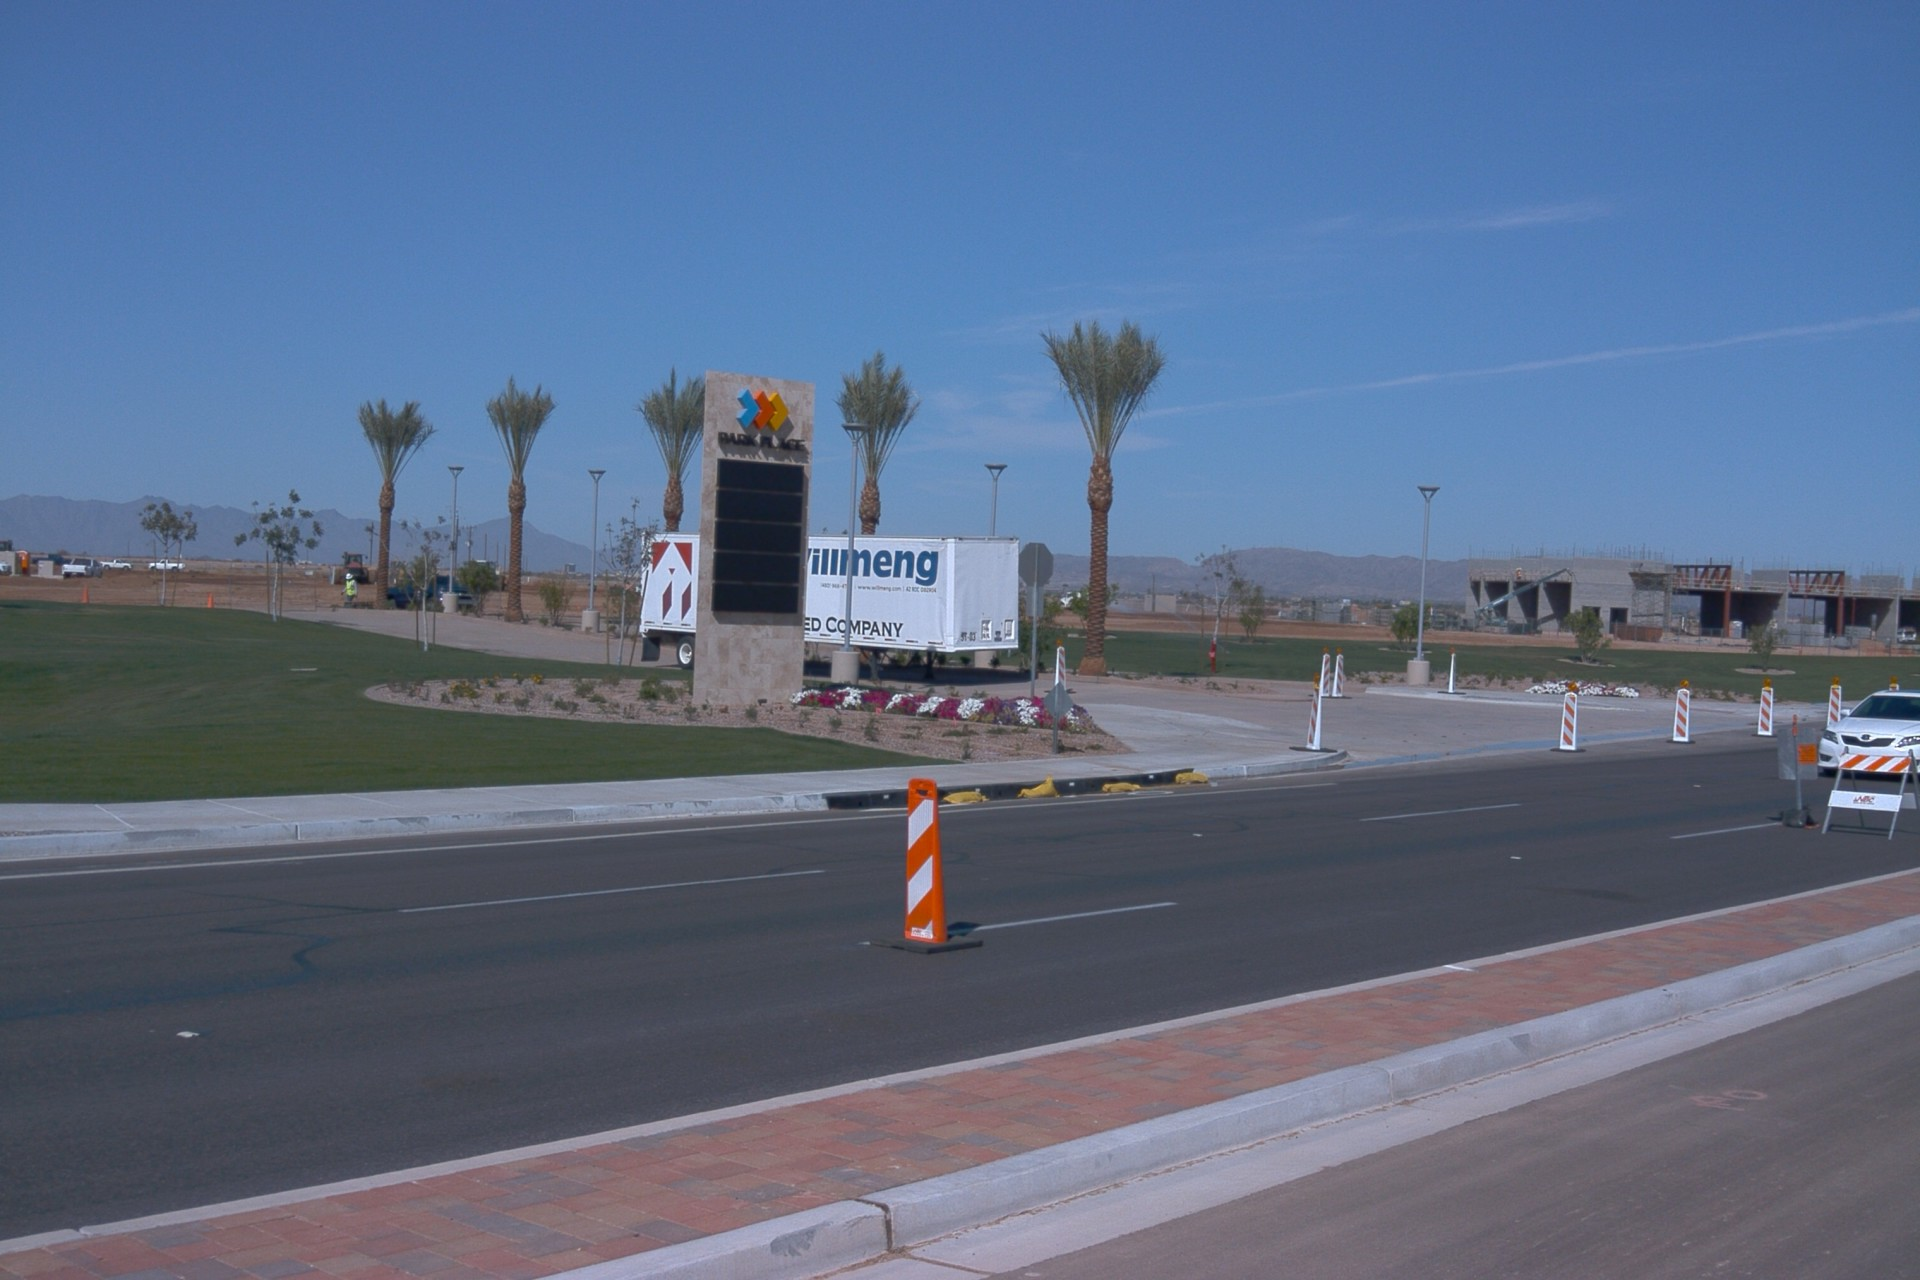TYPE_PEDESTRIAN: (341, 573, 358, 606), (624, 581, 633, 597)
TYPE_VEHICLE: (636, 523, 1028, 675), (1813, 690, 1920, 779), (1474, 564, 1579, 626), (388, 567, 478, 613), (331, 551, 374, 586), (465, 559, 509, 593), (56, 558, 105, 579), (1056, 588, 1087, 609), (147, 559, 190, 573), (92, 558, 133, 572), (387, 559, 410, 583), (0, 562, 15, 577), (634, 584, 645, 589)
